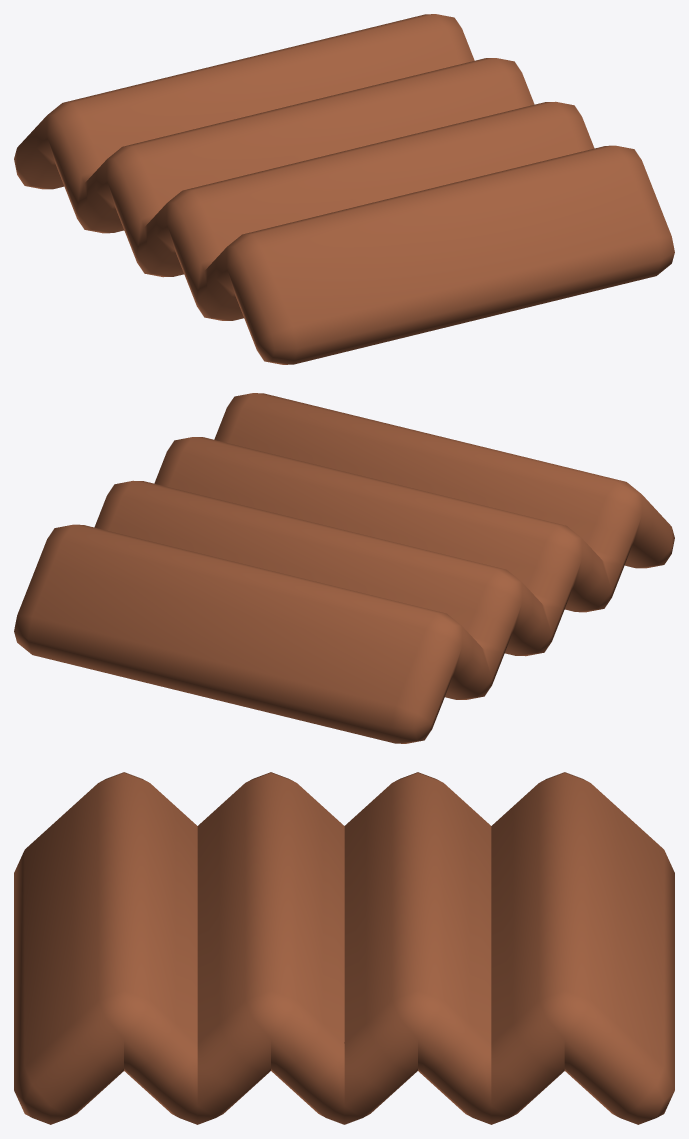
Rendered from LastLuna_Model_Item_Scrap.fbx.
3 views of the same model, one above another, from view 1: azimuth 30°, elevation 25°; view 2: azimuth 150°, elevation 25°; view 3: azimuth 270°, elevation 25° (orthographic). The views are drawn at different scales.
Visible parts, largest first — view 1: Scrap001; view 2: Scrap001; view 3: Scrap001.
Boxes of the visible parts, x1,y1,x2,y2 form: Scrap001: (14,14,674,364); Scrap001: (14,393,674,743); Scrap001: (14,772,674,1124).
Bounding box in the file's own units: 60.01 × 15 × 67.5.
